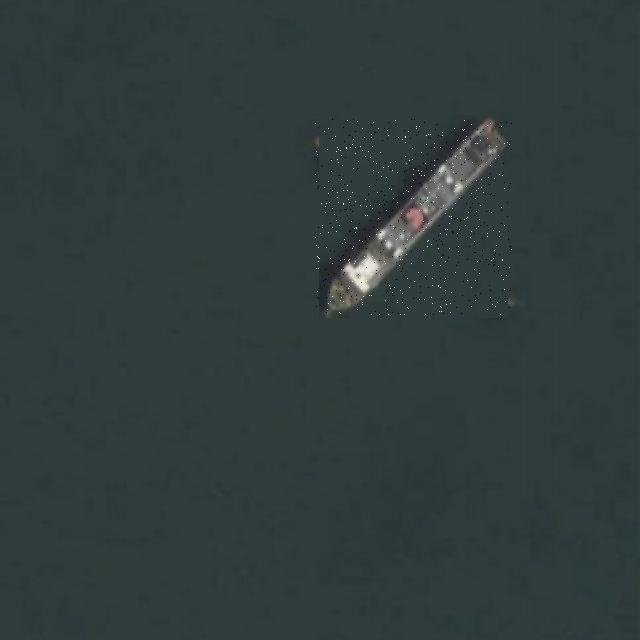boat: (315, 119, 512, 315)
